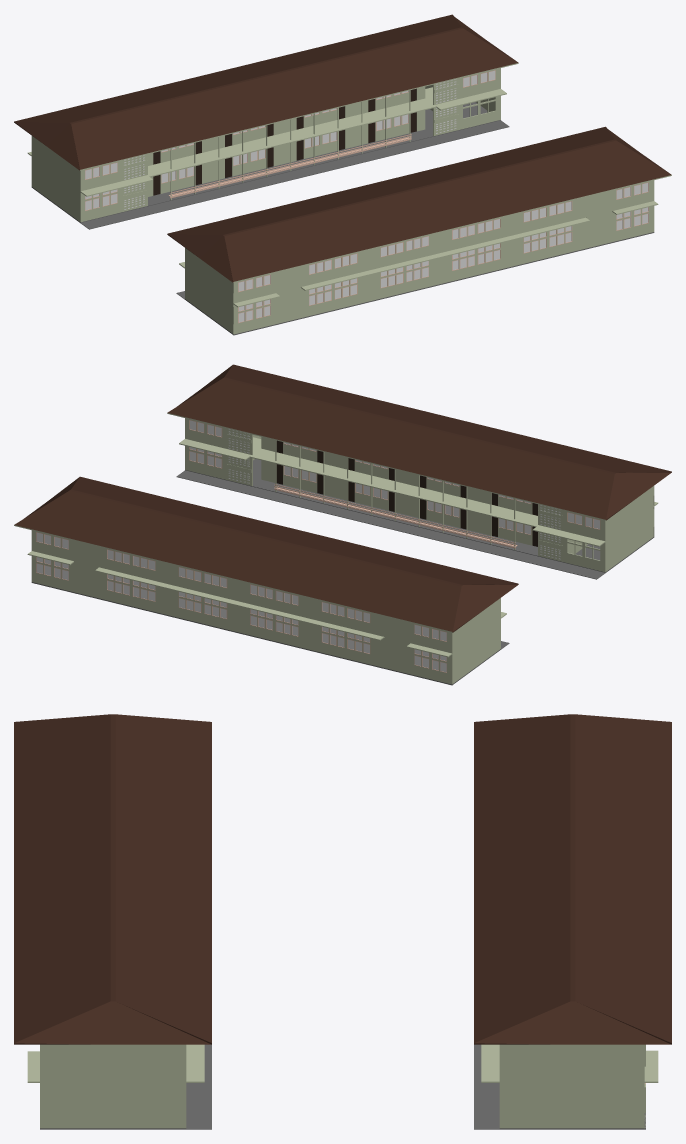
File: R1andR2_buiding.glb
3 views of the same model, one above another, from view 1: azimuth 30°, elevation 25°; view 2: azimuth 150°, elevation 25°; view 3: azimuth 270°, elevation 25° (orthographic). The views are drawn at different scales.
Visible parts, largest first — view 1: Cube.025, Cube.118, F1.001, F2.001, F1.002, Cube.117, F2.003, floor2.003, floor2.001, Cube.119, pillla.002, Cube.120 (+11 smaller); view 2: Cube.118, Cube.025, F1.002, F2.003, F1.001, Cube.024, F2.001, floor2.001, floor2.003, Cube.026, pillla.001, Cube.028 (+12 smaller); view 3: Cube.025, Cube.118, F1.001, F1.002, F2.001, F2.003, Cube.117, Cube.024, floor2.003, floor2.001.
Part boxes in pixels (x1,y1,x2,y2): Cube.025: [167, 126, 671, 282]; Cube.118: [14, 14, 518, 170]; F1.001: [185, 206, 654, 334]; F2.001: [185, 180, 654, 303]; F1.002: [31, 85, 500, 222]; Cube.117: [31, 102, 509, 229]; F2.003: [31, 68, 500, 191]; floor2.003: [27, 87, 506, 196]; floor2.001: [179, 201, 658, 307]; Cube.119: [168, 134, 411, 198]; pillla.002: [122, 68, 500, 211]; Cube.120: [434, 78, 458, 135]; Cube.118: [14, 476, 518, 632]; Cube.025: [167, 364, 671, 520]; F1.002: [31, 556, 500, 684]; F2.003: [31, 530, 500, 653]; F1.001: [185, 435, 654, 571]; Cube.024: [176, 459, 654, 579]; F2.001: [185, 418, 654, 540]; floor2.001: [179, 437, 658, 546]; floor2.003: [27, 551, 506, 657]; Cube.026: [274, 484, 517, 548]; pillla.001: [226, 428, 605, 571]; Cube.028: [227, 428, 251, 485]; Cube.025: [14, 714, 211, 1044]; Cube.118: [474, 714, 671, 1044]; F1.001: [40, 1083, 186, 1128]; F1.002: [499, 1083, 645, 1128]; F2.001: [40, 1044, 186, 1081]; F2.003: [499, 1044, 645, 1081]; Cube.117: [474, 1044, 645, 1129]; Cube.024: [40, 1044, 211, 1129]; floor2.003: [481, 1044, 658, 1082]; floor2.001: [27, 1044, 204, 1082].
Size of the model in its own units: 53.49 by 9.15 by 46.29.
